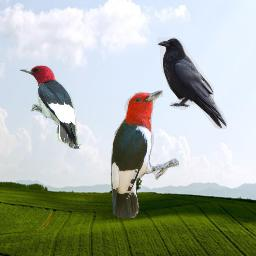Crow: (157, 37, 228, 130)
Woodpecker: (110, 90, 179, 218), (18, 65, 82, 149)
